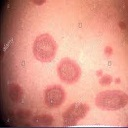Pemphigoid: (95, 68, 128, 108), (7, 112, 52, 127), (33, 34, 57, 61), (63, 102, 88, 127), (58, 57, 79, 81), (44, 87, 65, 104), (6, 82, 24, 99)
